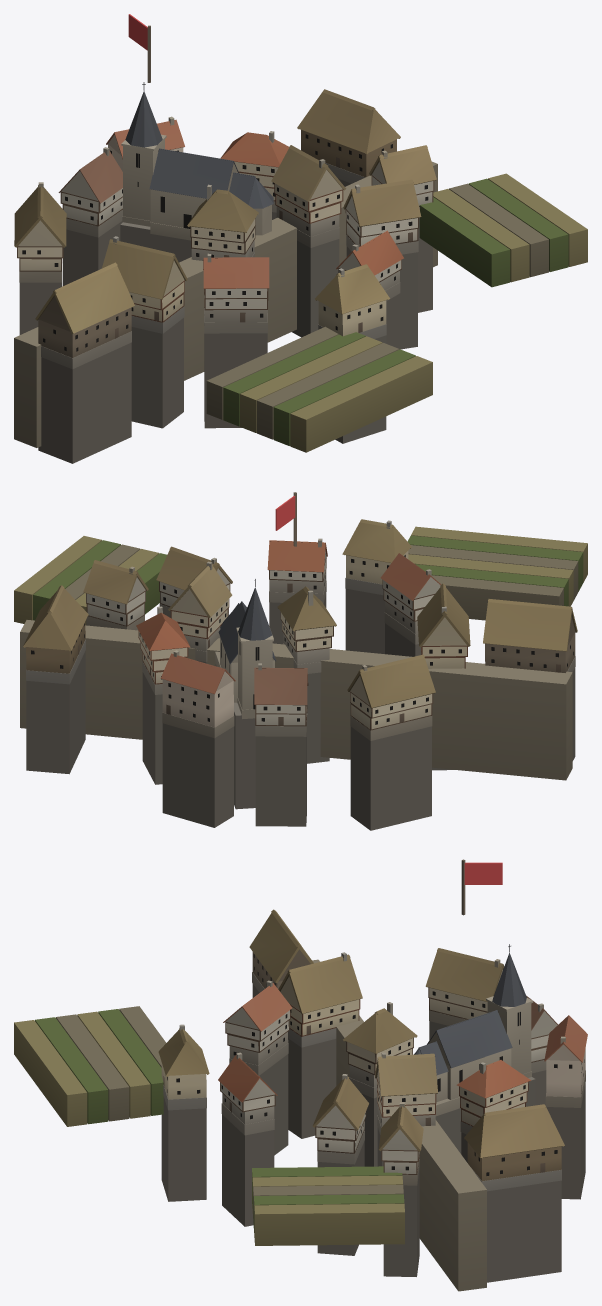
File: village_b.glb
3 renders of one model, top to bottom at view 1: azimuth 30°, elevation 25°; view 2: azimuth 150°, elevation 25°; view 3: azimuth 270°, elevation 25°, orthographic. The views are drawn at different scales.
Visible parts, largest first — view 1: village_b; view 2: village_b; view 3: village_b.
Boxes of the visible parts, <box> form: village_b: <box>14,14,587,463</box>; village_b: <box>14,492,587,830</box>; village_b: <box>14,859,587,1291</box>.
Bounding box in the file's own units: 2.01 × 1.11 × 1.91.
